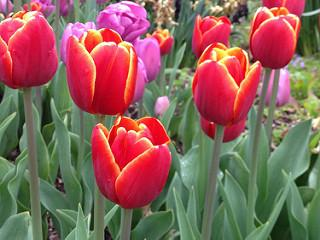tulip: (88, 116, 174, 208), (68, 23, 142, 117), (190, 41, 263, 124), (0, 14, 58, 90), (250, 5, 298, 67), (192, 13, 230, 56)
